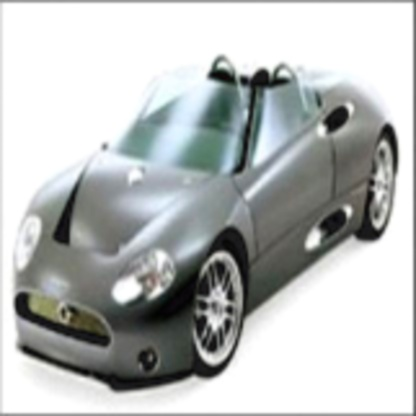Vehicle: (9, 46, 403, 405)
